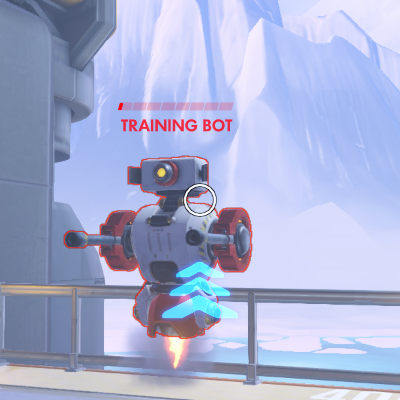hpbar: (117, 102, 233, 111)
